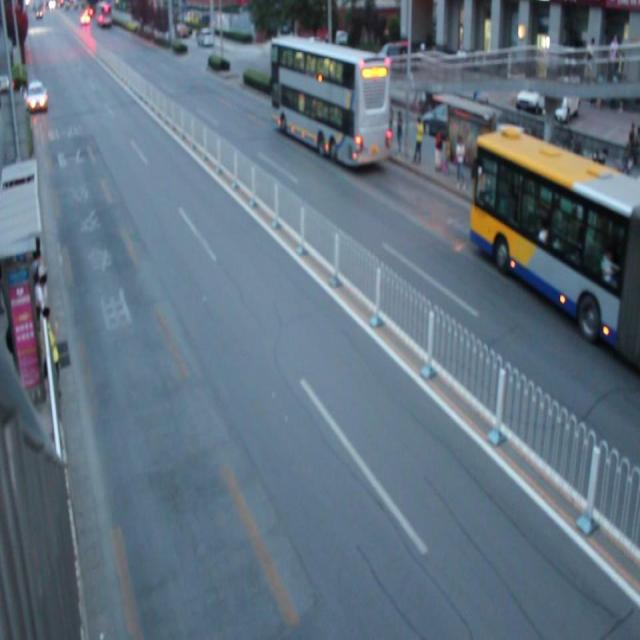van: (468, 131, 640, 357), (268, 38, 389, 166)
